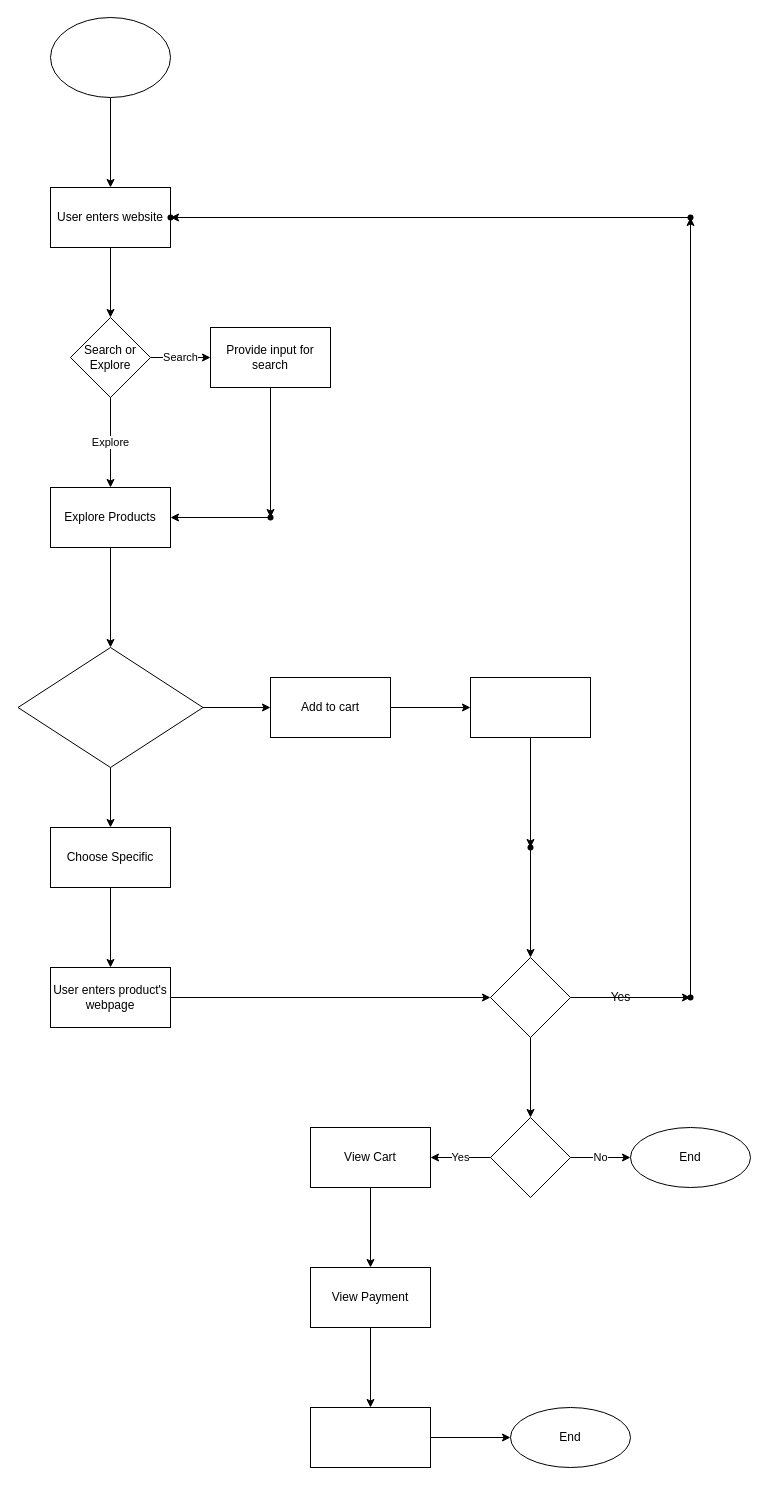
The diagram is 768 pixels wide and 1485 high, and some of its shapes have lost their labels. Here are the shapes that lost their labels. From the top down, the box of each, then its label:
(50, 16, 170, 98): Start
(17, 646, 203, 768): Choose Specific or Add to Cart
(470, 676, 590, 738): Confirm
(490, 956, 570, 1038): Continue Shopping?
(490, 1116, 570, 1198): Checkout?
(310, 1406, 430, 1468): Order Confirmation and Email
